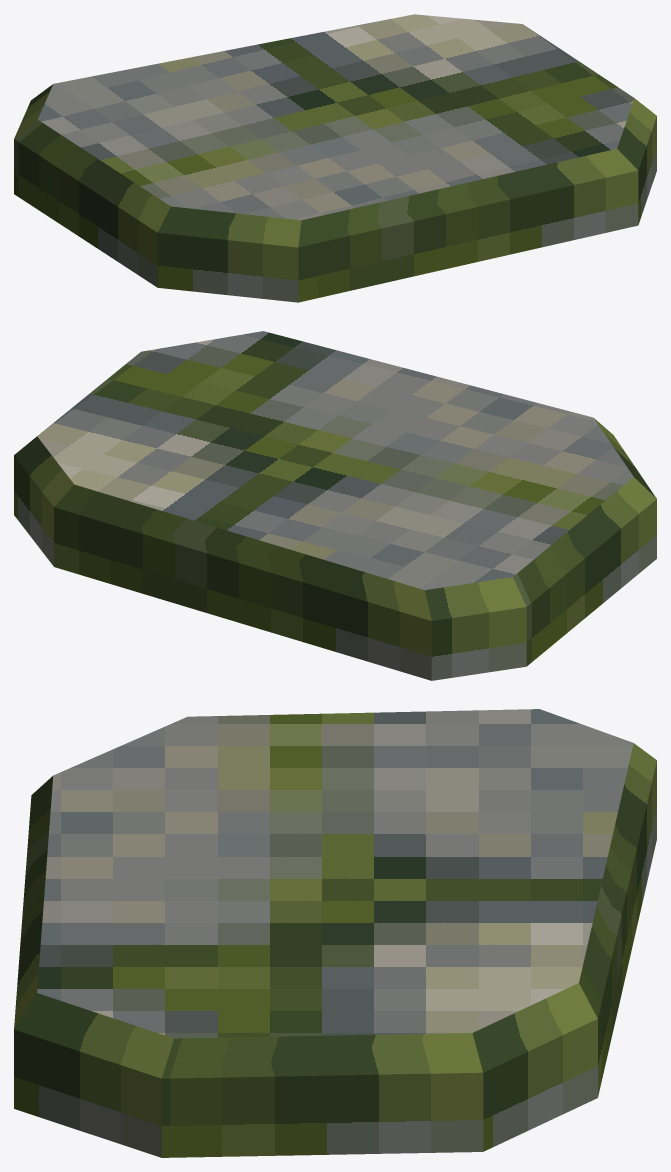
The model's file is PathStoneD.glb.
3 views of the same model, one above another, from view 1: azimuth 30°, elevation 25°; view 2: azimuth 150°, elevation 25°; view 3: azimuth 270°, elevation 25° (orthographic). The views are drawn at different scales.
Parts seen in each view (by area): view 1: PathStoneD; view 2: PathStoneD; view 3: PathStoneD.
Part boxes in pixels (box(x1,y1,x2,y2)): PathStoneD: box(14, 14, 656, 302); PathStoneD: box(14, 331, 656, 680); PathStoneD: box(14, 709, 656, 1157).
Size of the model in its own units: 0.5 by 0.07 by 0.3826.
1 material, 1 textured.
